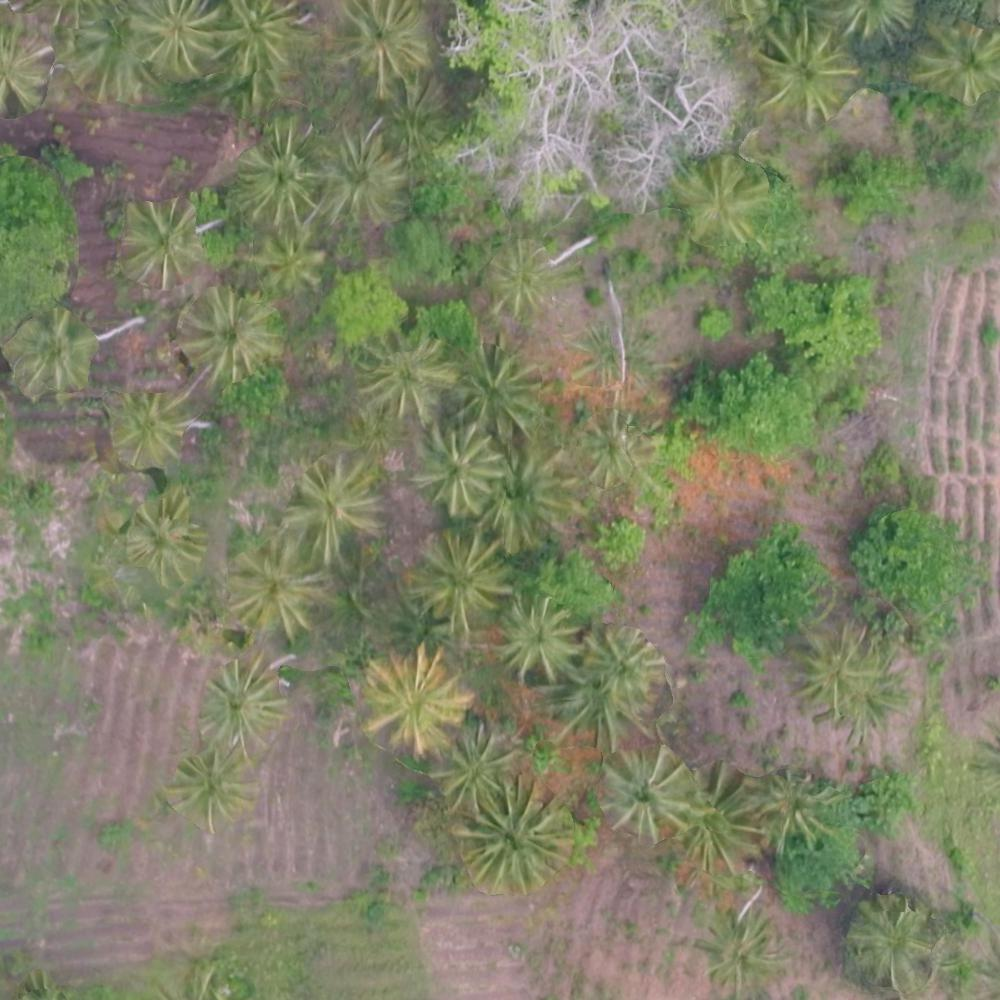Palm: (459, 778, 571, 885), (361, 648, 468, 755), (679, 764, 769, 875), (411, 529, 510, 629), (227, 544, 325, 641), (449, 341, 543, 439), (752, 21, 851, 114), (334, 1, 434, 93), (286, 455, 379, 552), (602, 746, 693, 843), (233, 124, 322, 222), (196, 659, 285, 751), (410, 425, 499, 516), (693, 904, 785, 989), (183, 288, 277, 371), (426, 723, 514, 811), (319, 128, 405, 218), (9, 312, 100, 396), (358, 332, 448, 415), (915, 19, 1000, 106), (497, 594, 586, 677), (800, 624, 883, 713), (679, 159, 767, 240), (853, 896, 936, 981), (213, 1, 298, 79), (125, 1, 217, 73), (586, 626, 661, 711), (761, 767, 840, 846), (119, 199, 197, 279), (127, 491, 203, 572), (482, 240, 563, 313), (175, 755, 254, 826), (108, 391, 181, 467), (247, 223, 325, 290)
